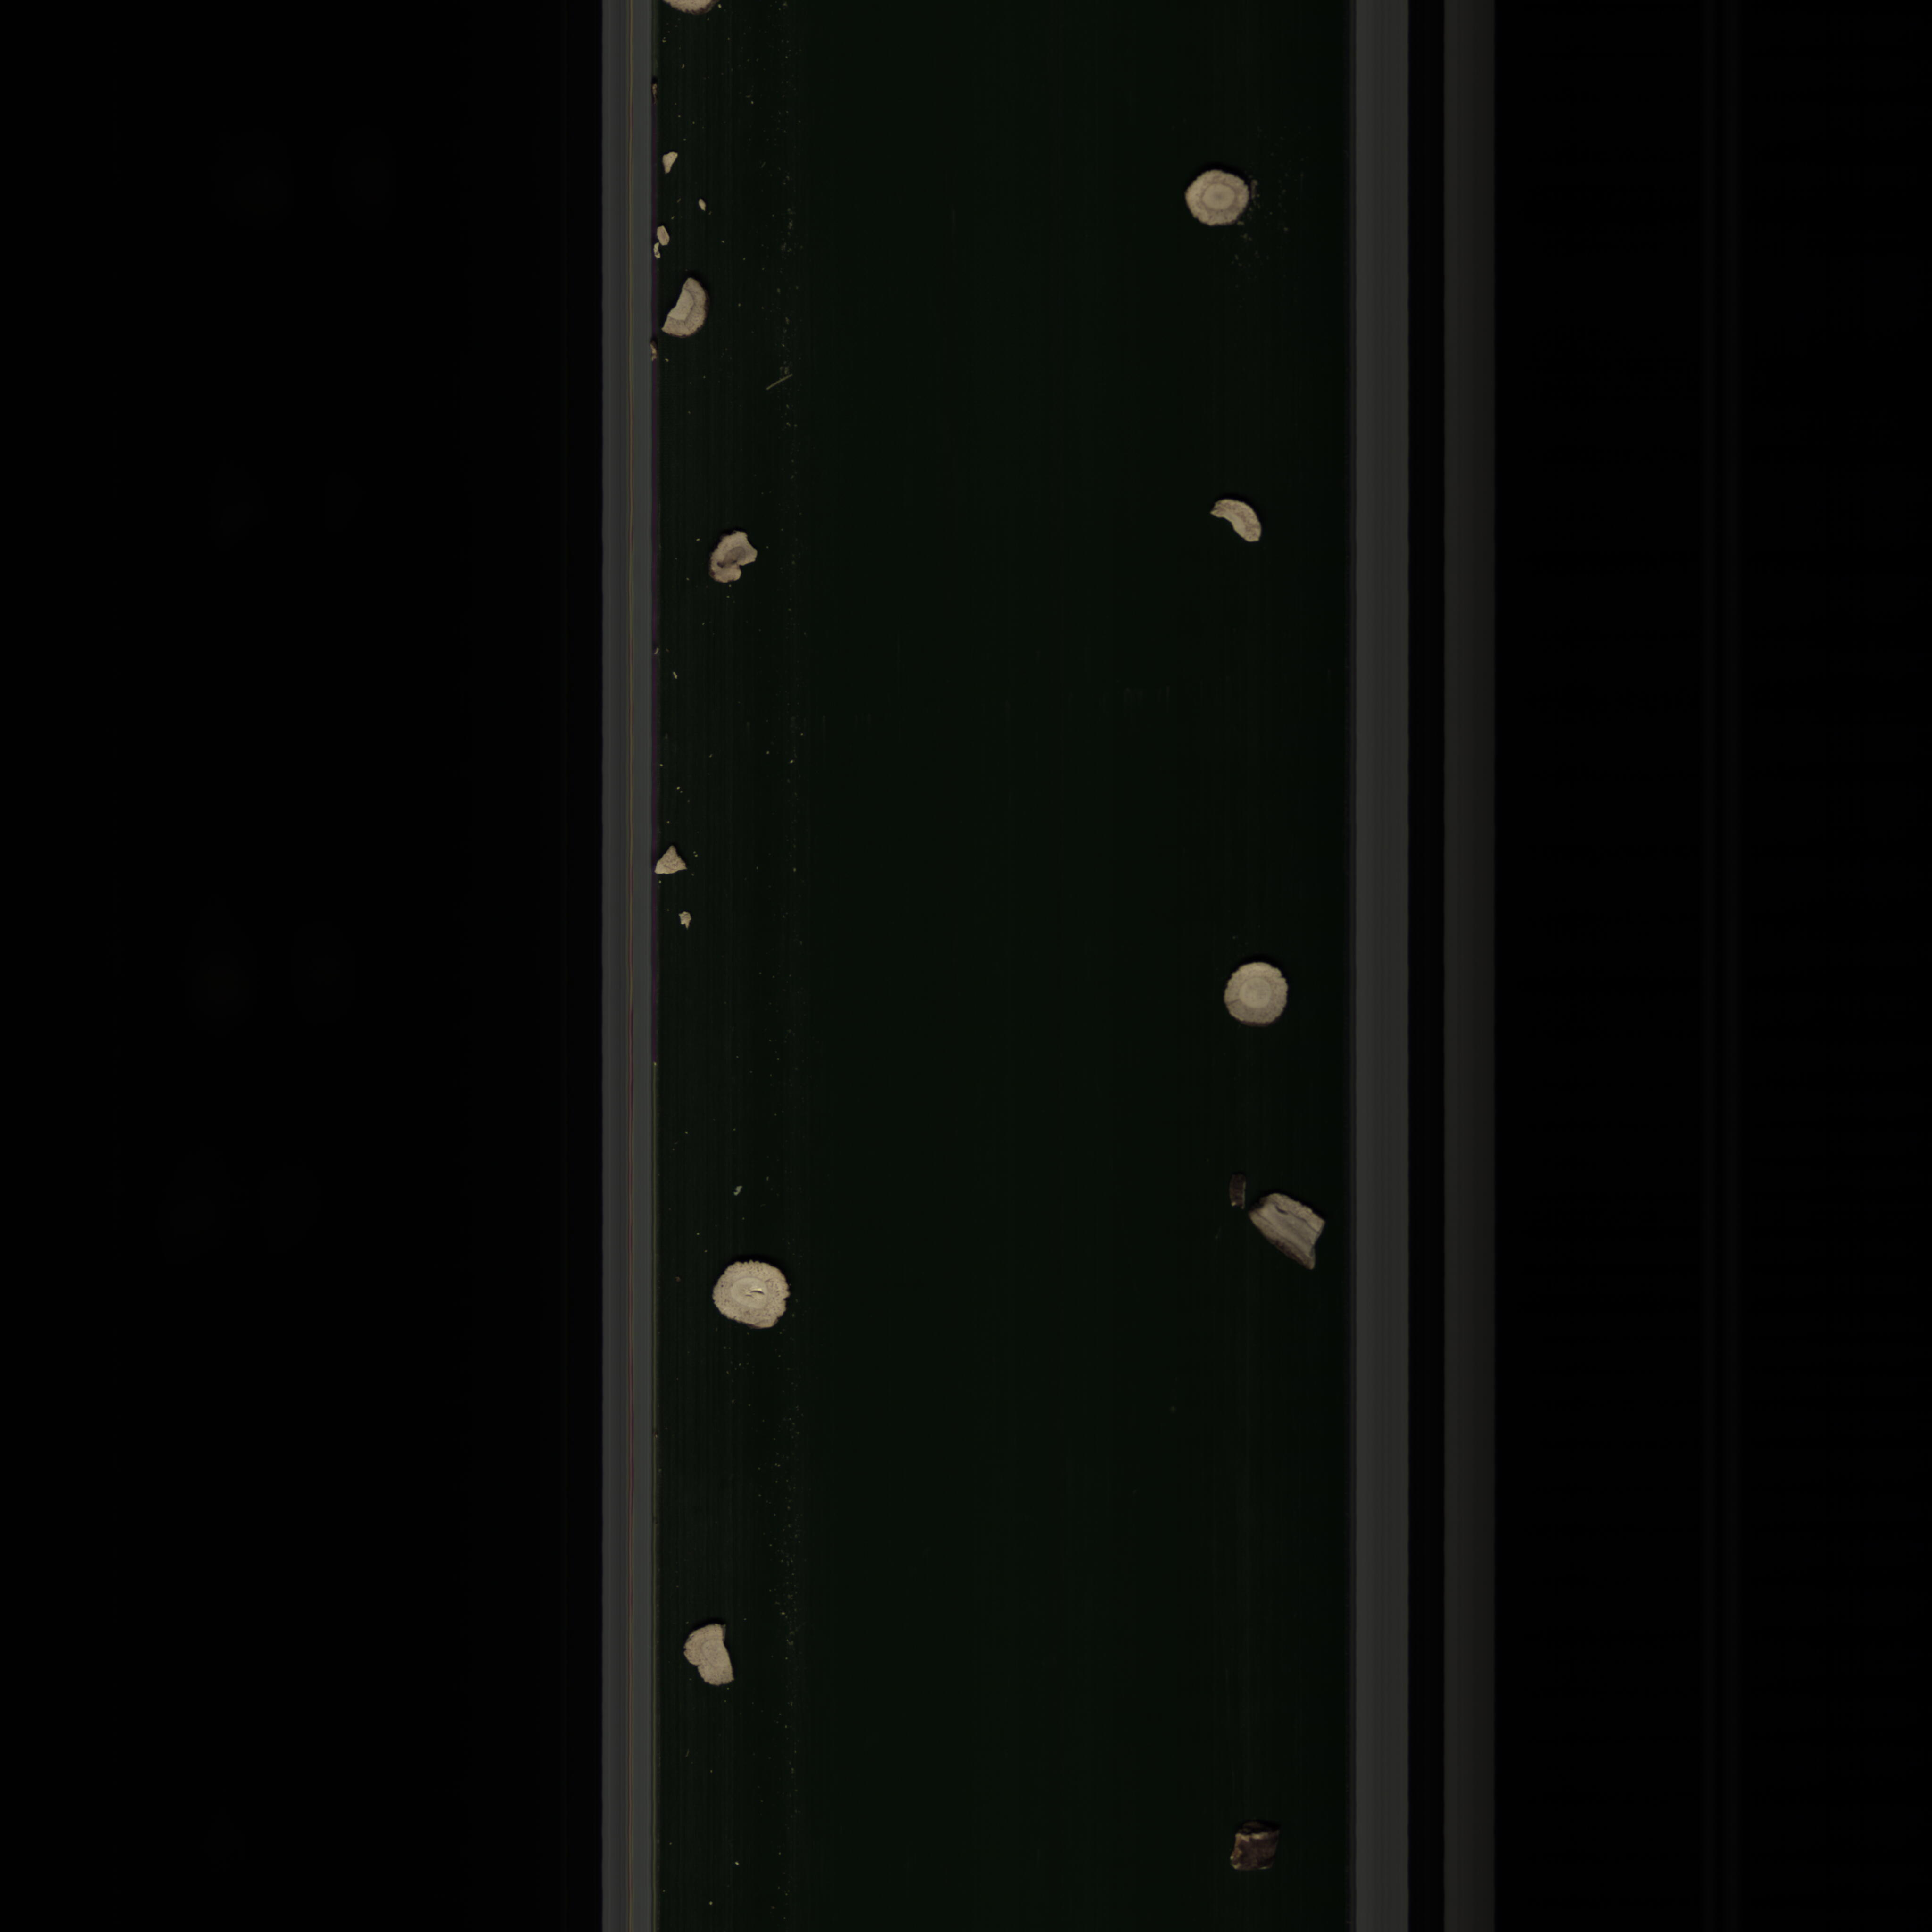bark: (1226, 1819, 1293, 1882)
debris: (1221, 1162, 1323, 1283), (676, 1617, 750, 1693), (662, 271, 725, 354), (1203, 488, 1277, 552), (648, 846, 695, 885)
moldy: (708, 522, 777, 591)
